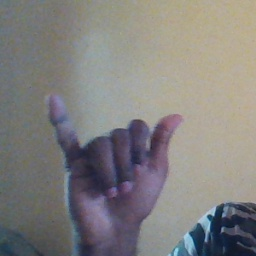J: (35, 90, 184, 228)
